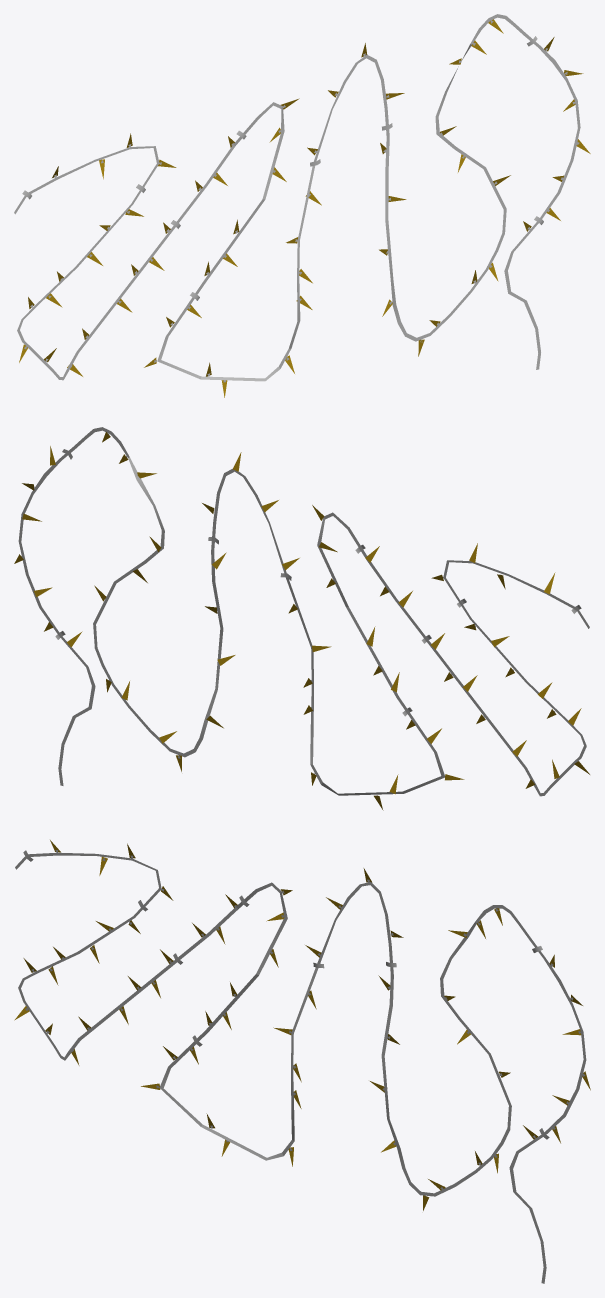
The model's file is Wall Fairy Lights 2.FBX.
3 views of the same model, one above another, from view 1: azimuth 30°, elevation 25°; view 2: azimuth 150°, elevation 25°; view 3: azimuth 330°, elevation 25° (orthographic).
Parts seen in each view (by area): view 1: Wall Fairy Lights 2, Bulbs; view 2: Wall Fairy Lights 2, Bulbs; view 3: Wall Fairy Lights 2, Bulbs.
Boxes of the visible parts, x1=… form: Wall Fairy Lights 2: x1=14, y1=14, x2=580, y2=382; Bulbs: x1=19, y1=19, x2=590, y2=397; Wall Fairy Lights 2: x1=18, y1=427, x2=589, y2=796; Bulbs: x1=14, y1=432, x2=589, y2=810; Wall Fairy Lights 2: x1=15, y1=850, x2=586, y2=1283; Bulbs: x1=14, y1=840, x2=590, y2=1210.
Bounding box in the file's own units: 162 × 100 × 4.68.
